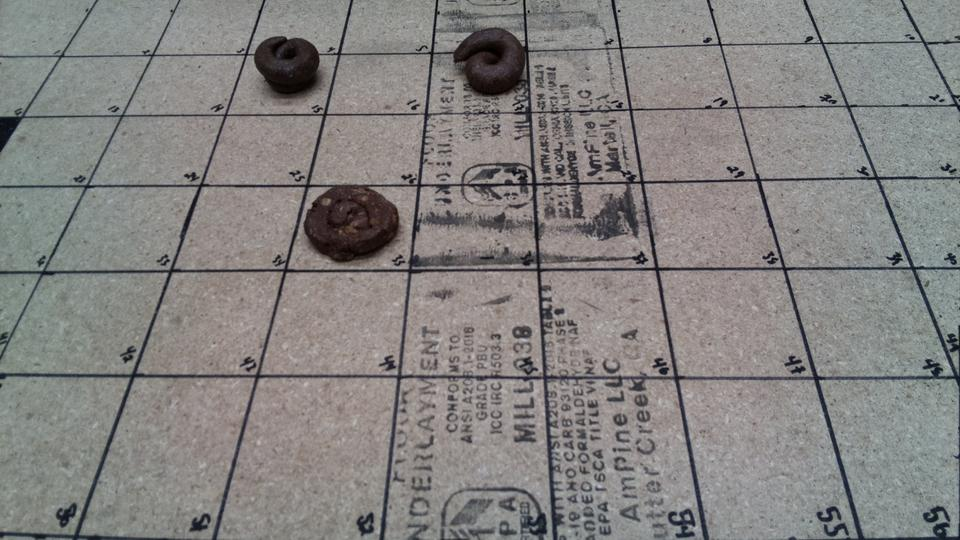poop: (315, 293, 407, 385), (279, 118, 365, 197), (335, 19, 414, 82)
